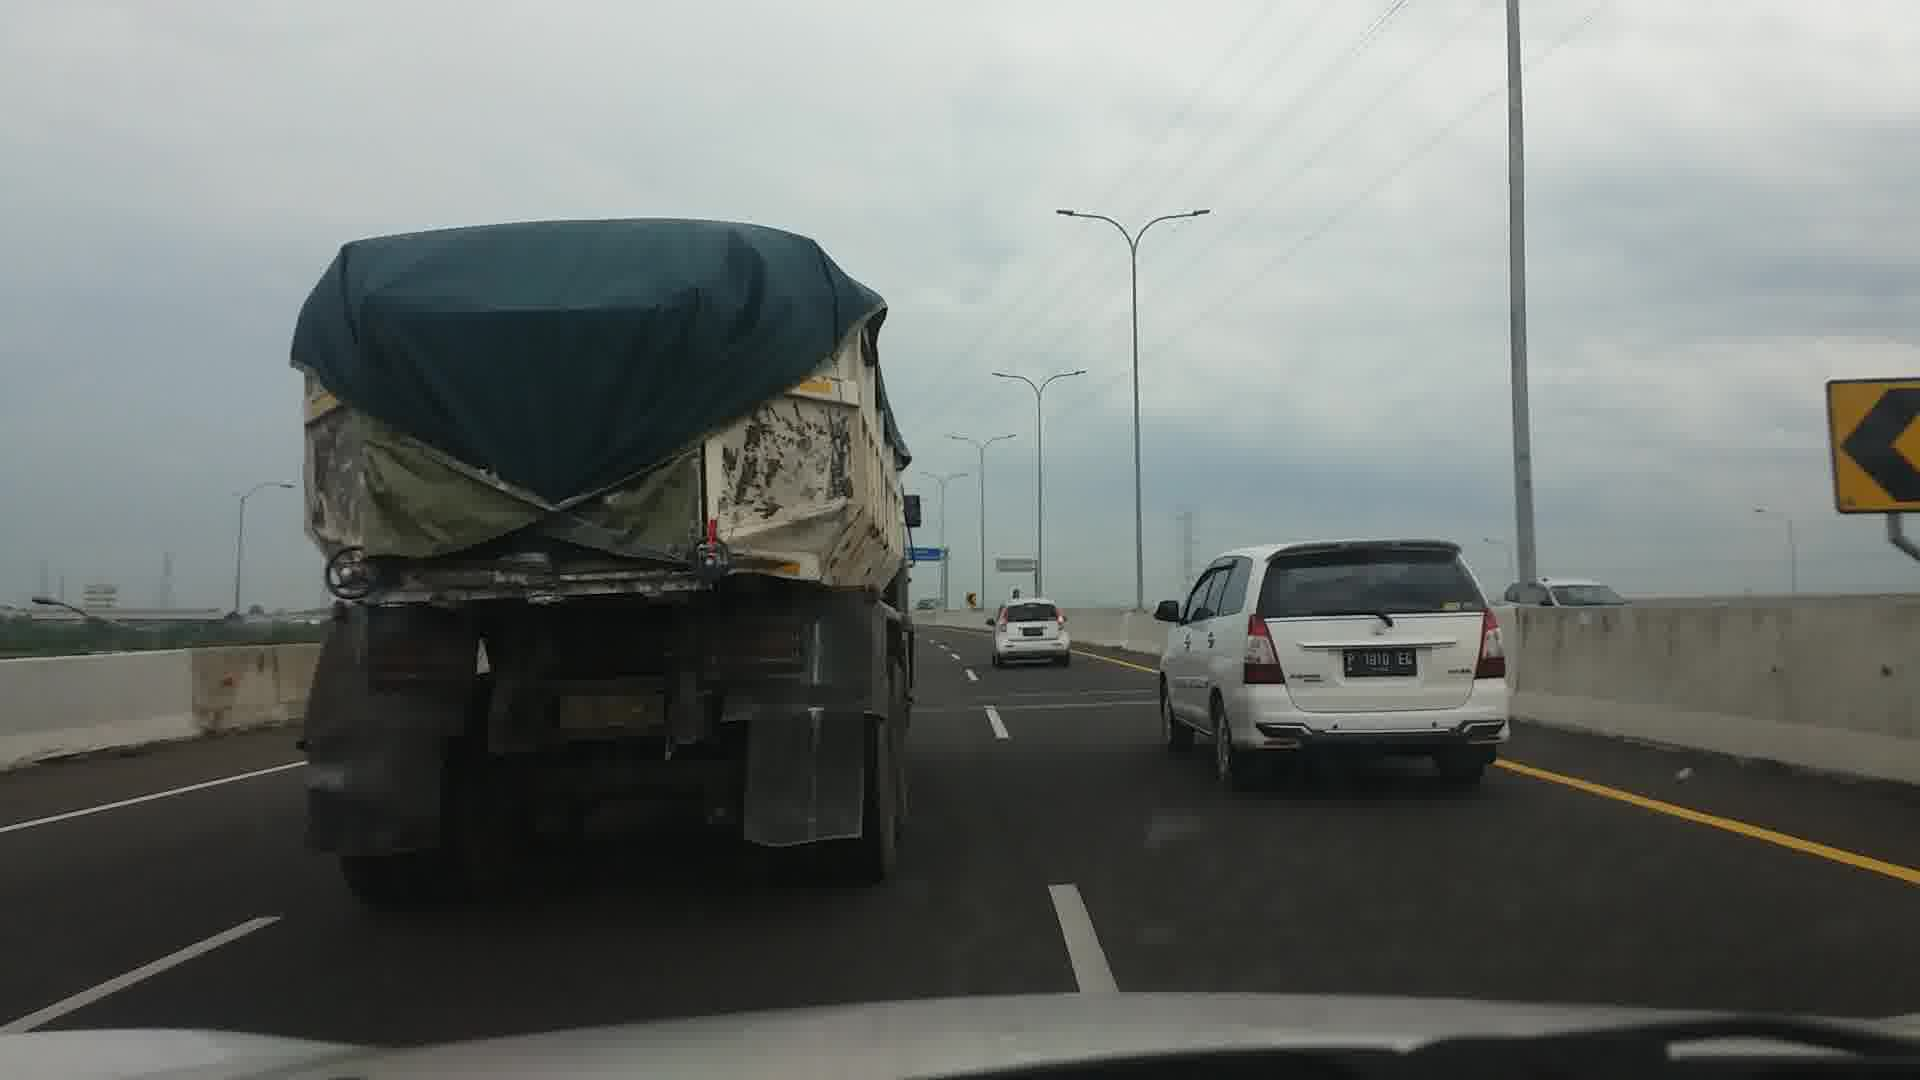plate_positive: (1344, 647, 1418, 676), (1022, 628, 1043, 636)
